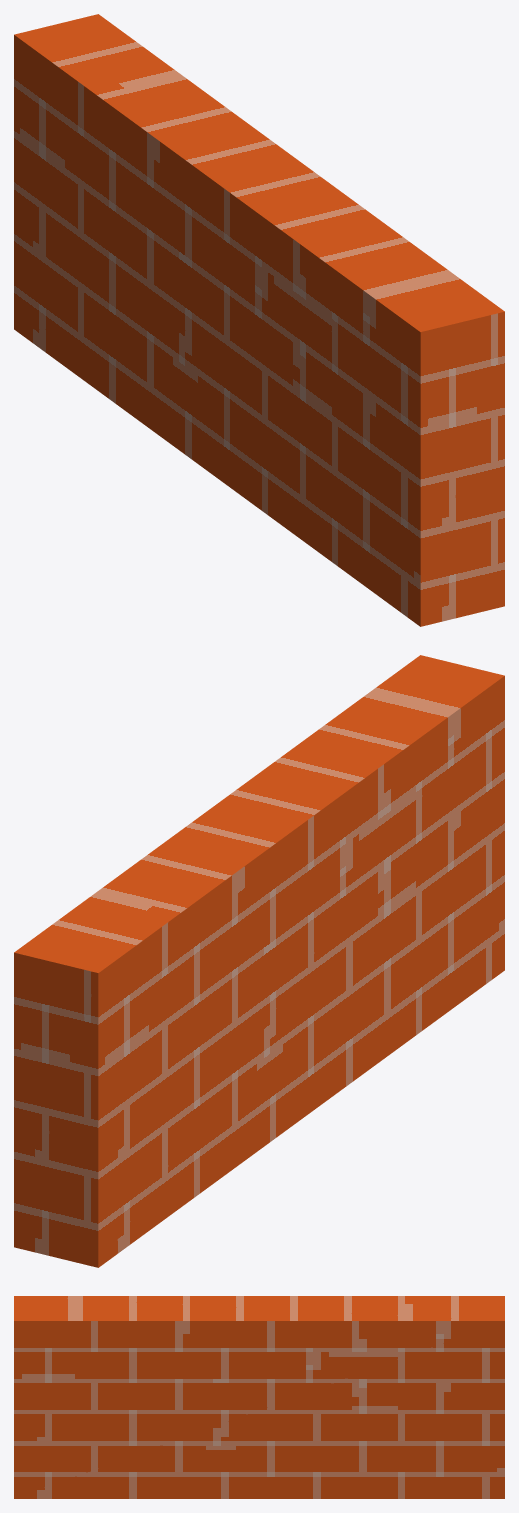
Rendered from brickLow.gltf.
3 renders of one model, top to bottom at view 1: azimuth 30°, elevation 25°; view 2: azimuth 150°, elevation 25°; view 3: azimuth 270°, elevation 25°, orthographic. The views are drawn at different scales.
Visible parts, largest first — view 1: e564257e-c5ff-6dab-8c20-85fd39a04b1c; view 2: e564257e-c5ff-6dab-8c20-85fd39a04b1c; view 3: e564257e-c5ff-6dab-8c20-85fd39a04b1c.
Boxes of the visible parts, bbox=[...] form: e564257e-c5ff-6dab-8c20-85fd39a04b1c: bbox=[14, 14, 504, 626]; e564257e-c5ff-6dab-8c20-85fd39a04b1c: bbox=[14, 655, 504, 1267]; e564257e-c5ff-6dab-8c20-85fd39a04b1c: bbox=[14, 1296, 504, 1498].
Size of the model in its own units: 0.1875 by 0.625 by 1.56.
1 material, 1 textured.
